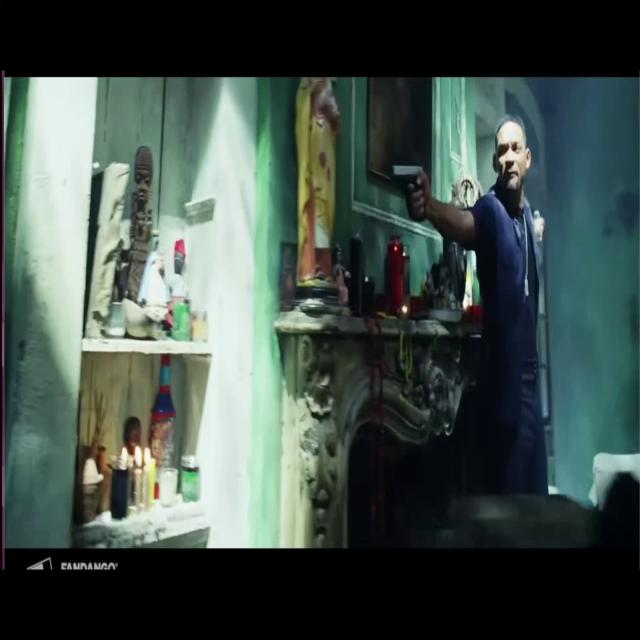weapons: (388, 141, 436, 225)
